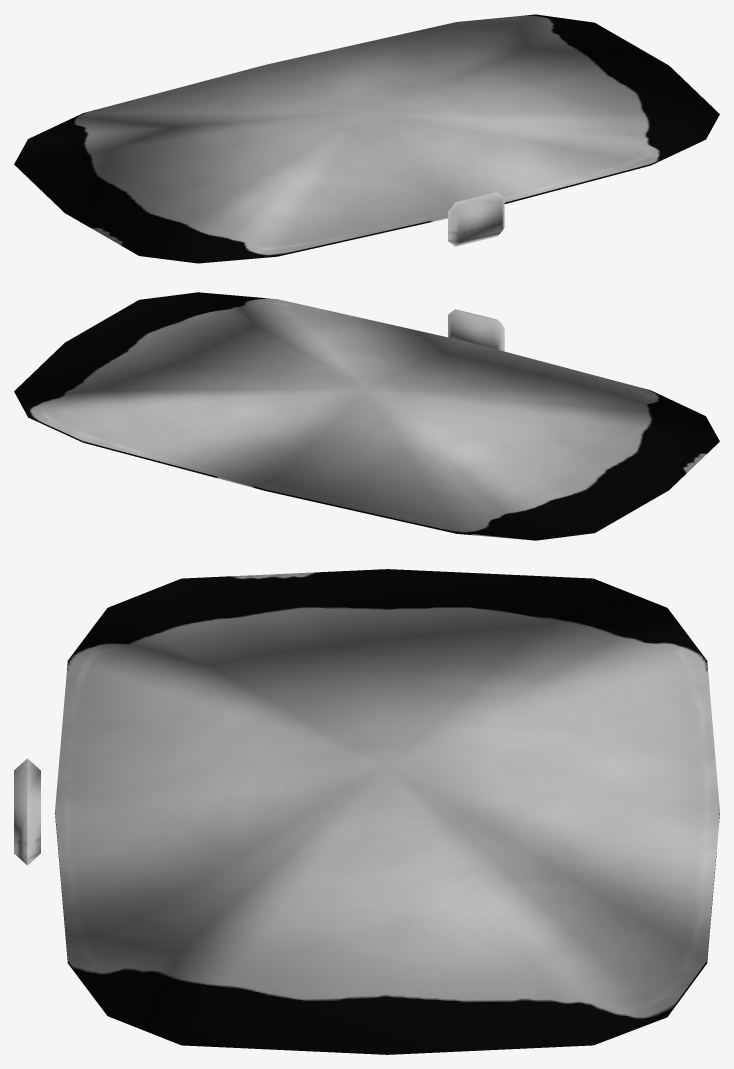
The model's file is LowerTorso_C2.fbx.
3 renders of one model, top to bottom at view 1: azimuth 30°, elevation 25°; view 2: azimuth 150°, elevation 25°; view 3: azimuth 270°, elevation 25°, orthographic. The views are drawn at different scales.
Parts seen in each view (by area): view 1: Civ_Bermuda_LowerTorso_C2; view 2: Civ_Bermuda_LowerTorso_C2; view 3: Civ_Bermuda_LowerTorso_C2.
Part boxes in pixels (<box>): Civ_Bermuda_LowerTorso_C2: <box>14,14,719,263</box>; Civ_Bermuda_LowerTorso_C2: <box>14,292,719,540</box>; Civ_Bermuda_LowerTorso_C2: <box>14,569,719,1054</box>.
Bounding box in the file's own units: 2.29 × 0.2 × 1.4.
